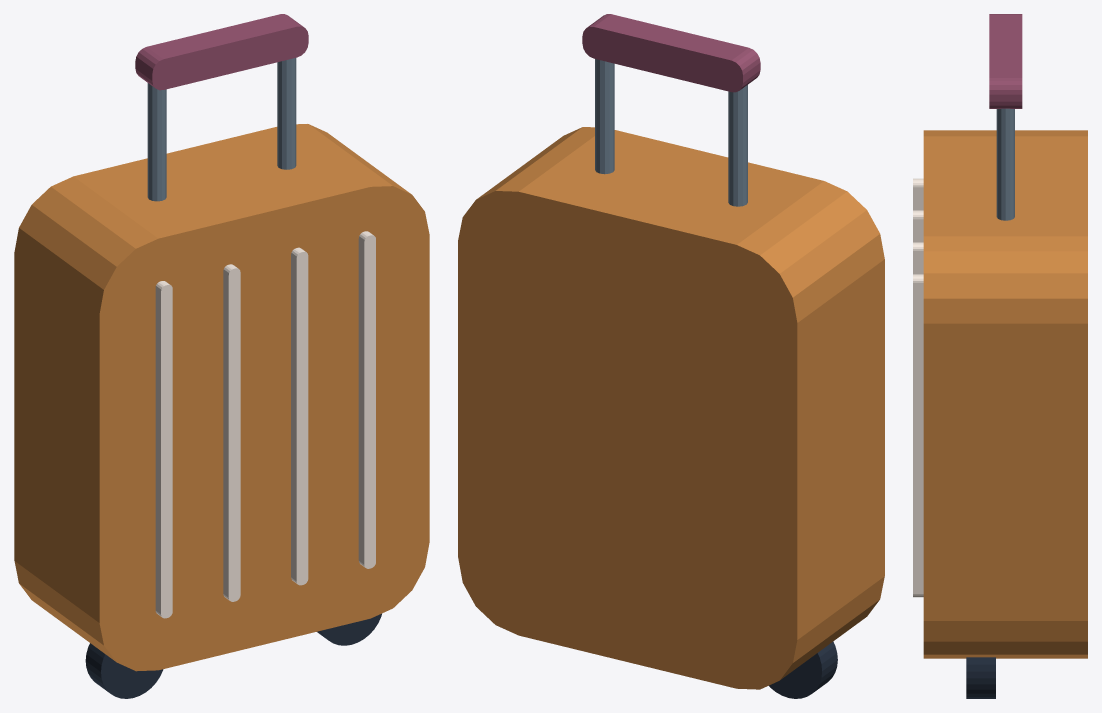
The model's file is suitcase.glb.
3 views of the same model, side by side, from view 1: azimuth 30°, elevation 25°; view 2: azimuth 150°, elevation 25°; view 3: azimuth 270°, elevation 25° (orthographic). The views are drawn at different scales.
Parts seen in each view (by area): view 1: hard shell, handle grip, rib 1, rib 0, rib 2, rib 3, telescopic -0.22, telescopic 0.22, caster -0.37, caster 0.37; view 2: hard shell, handle grip, telescopic -0.22, telescopic 0.22, caster -0.37; view 3: hard shell, rib 3, handle grip, telescopic 0.22, caster 0.37, rib 0, rib 1, rib 2.
Boxes of the visible parts, x1,y1,x2,y2 form: hard shell: (14,124,429,671); handle grip: (135,14,308,90); rib 1: (223,264,240,601); rib 0: (155,281,172,618); rib 2: (291,247,308,585); rib 3: (358,231,375,568); telescopic -0.22: (147,83,166,201); telescopic 0.22: (277,58,296,169); caster -0.37: (85,643,163,698); caster 0.37: (317,613,381,645); hard shell: (458,127,884,689); handle grip: (582,14,760,92); telescopic -0.22: (728,85,747,206); telescopic 0.22: (595,59,614,174); caster -0.37: (769,641,837,698); hard shell: (923,130,1087,658); rib 3: (913,274,923,597); handle grip: (989,14,1022,108); telescopic 0.22: (996,108,1014,220); caster 0.37: (966,657,995,698); rib 0: (913,178,923,210); rib 1: (913,210,923,242); rib 2: (913,242,923,274).
Size of the model in its own units: 1.12 by 2.01 by 0.5325.
